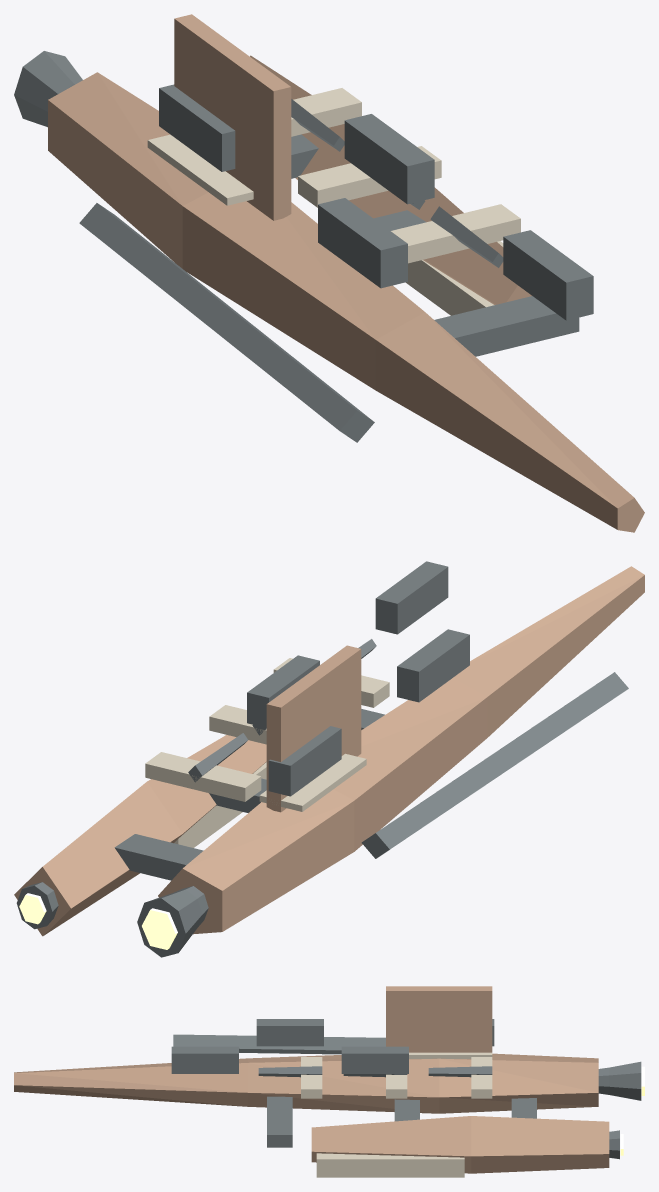
3 renders of one model, top to bottom at view 1: azimuth 30°, elevation 25°; view 2: azimuth 150°, elevation 25°; view 3: azimuth 270°, elevation 25°, orthographic. The views are drawn at different scales.
Bounding box in the file's own units: 8.03 × 5.46 × 22.5.
